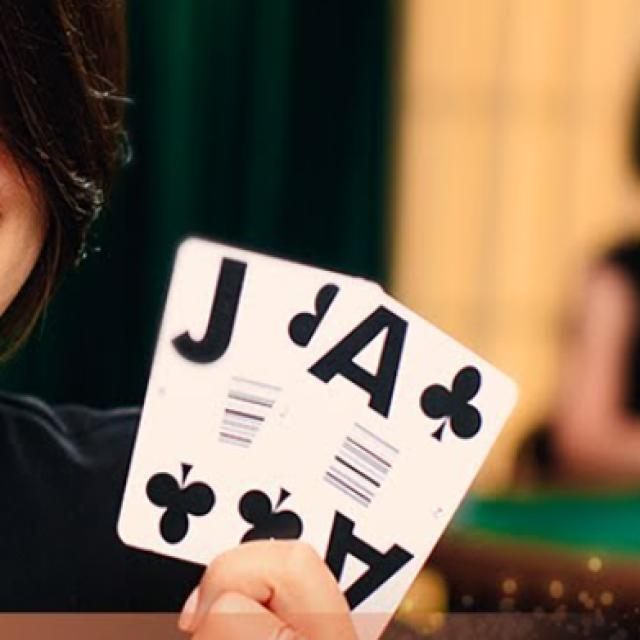Card-A: (193, 277, 517, 639)
Card-J: (117, 236, 355, 560)
